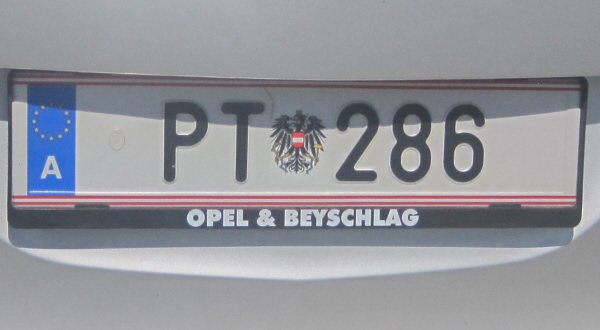license_plate: (10, 72, 581, 210)
